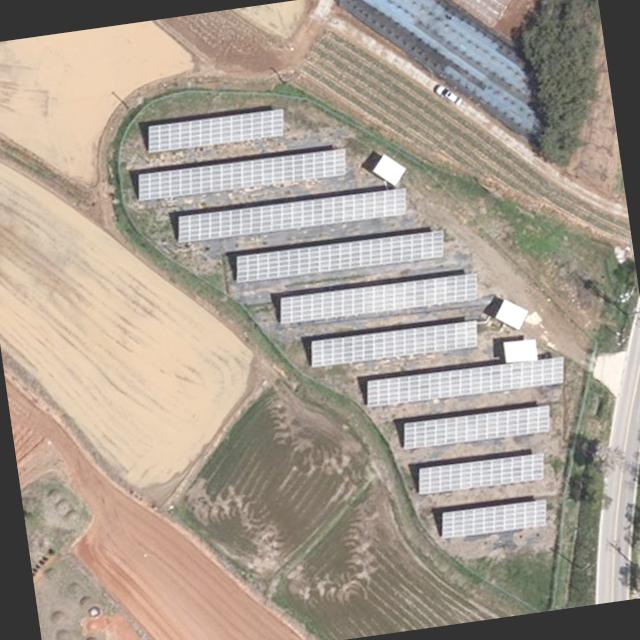solar: (171, 182, 412, 252), (132, 142, 350, 208), (232, 226, 449, 288), (274, 268, 482, 330), (361, 352, 568, 412), (302, 316, 480, 372), (397, 400, 553, 456), (144, 104, 287, 156), (411, 446, 549, 499), (434, 494, 551, 543)
